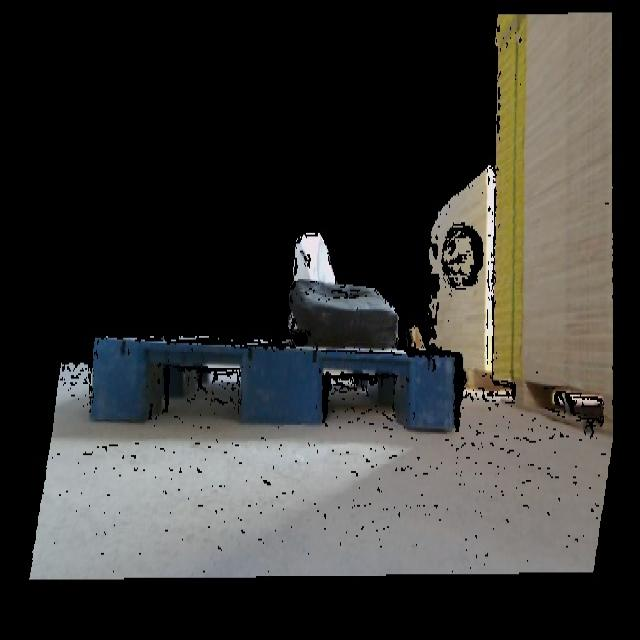block: (242, 342, 324, 428), (91, 329, 152, 426), (404, 346, 460, 433)
front: (89, 327, 460, 436)
